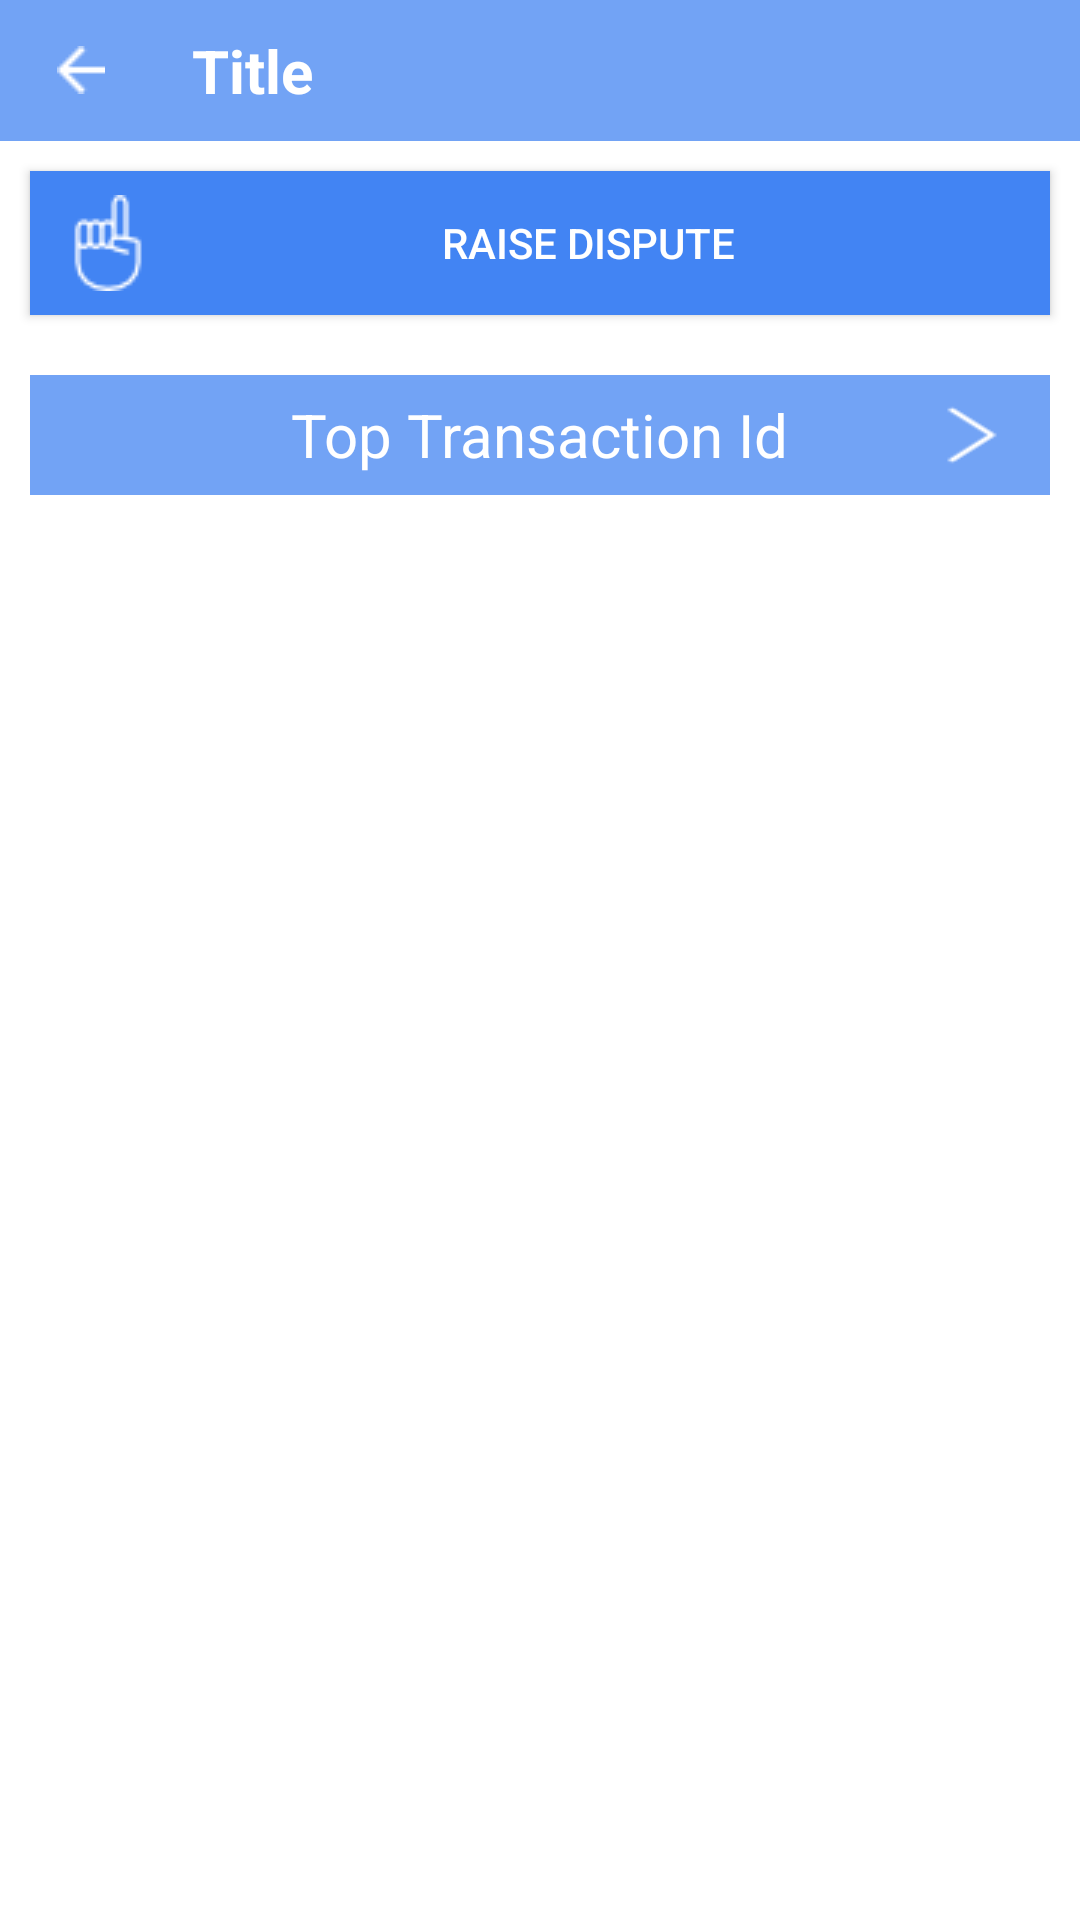

Where icons sit on this 1080×1920 app screen, as rect(x1, y1, x2, y2):
back: rect(57, 46, 105, 94)
right arrow: rect(947, 407, 996, 463)
